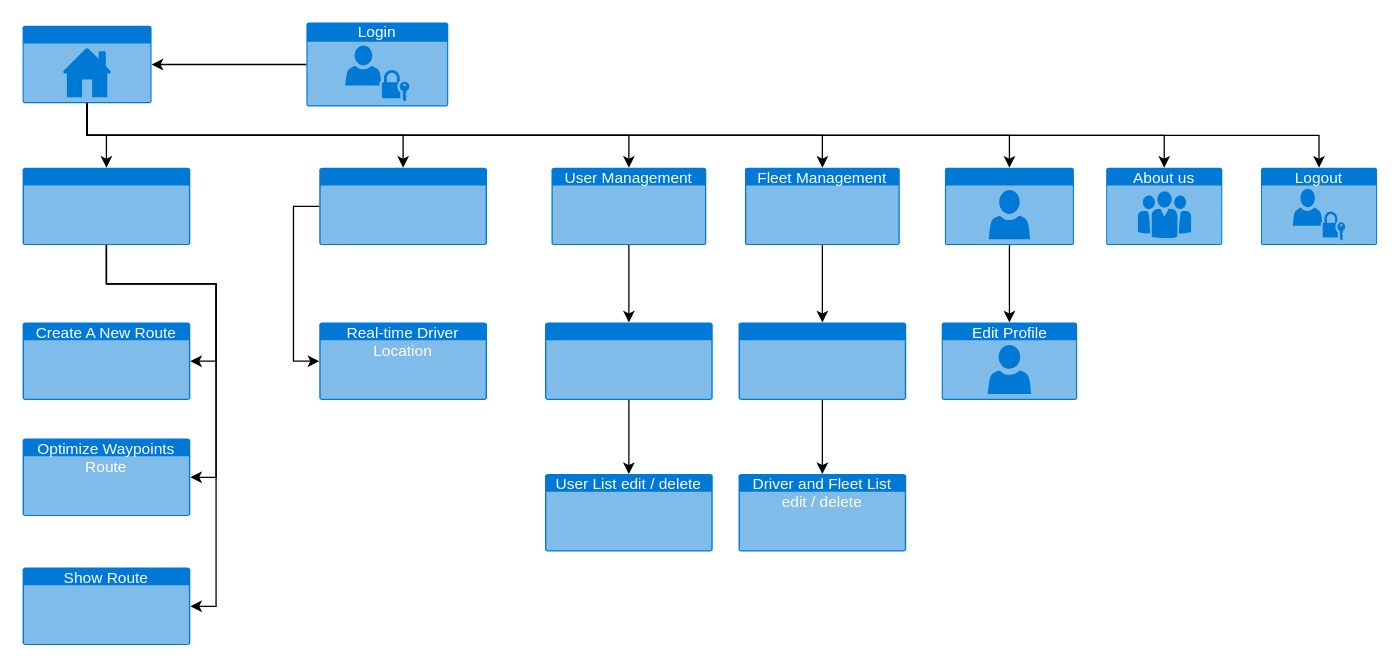
This 1398x667 diagram has some shape labels left out. Here are the shapes that lost their labels. From the top down, the centre of each, then its label:
At point (86, 64): "Admin Dashboard".
At point (106, 205): "Create Route".
At point (402, 205): "Real-time Tracking".
At point (1008, 205): "Profile".
At point (628, 360): "User List".
At point (822, 360): "Driver and Fleet List".
